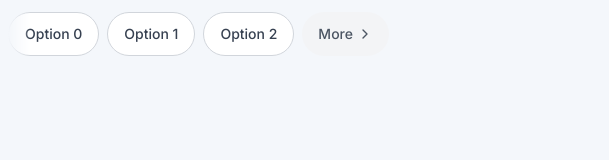
Test: SuggestionChips › shows all suggestions when "More" button is clicked
This screenshot has width=609, height=160.
Expected: the text "Option 3" is not shown
Click "More" button
Click the button "More". click: click(346, 34)
box: [302,12,389,56]
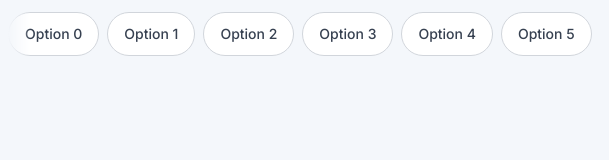
Result: the text "Option 3" is shown at [319,24,376,44]
Result: the text "Option 4" is shown at [418,24,476,44]
Result: the text "Option 5" is shown at [518,24,575,44]
